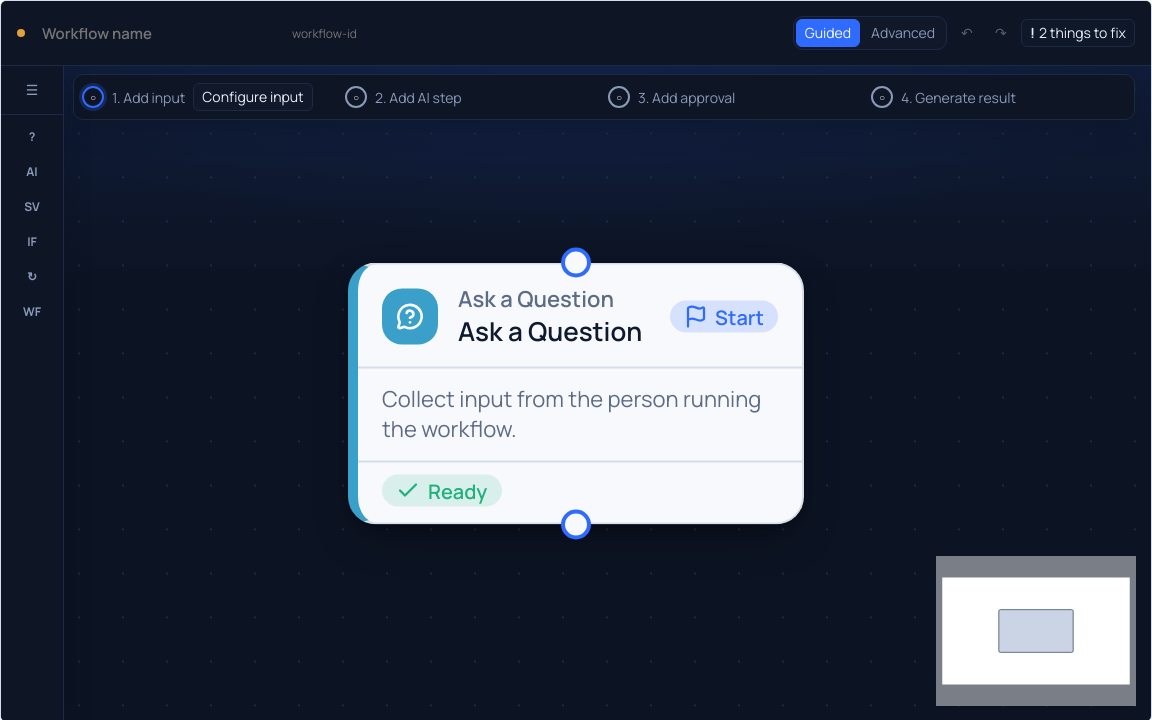
Test case: ValidationPill popover occlusion fix › moves focus into the portaled dialog on open and restores it to the toggle button on close
The image size is (1152, 720).
Click the button with class "wf-validation-pill".
click(1078, 33)  # box [1021,19,1135,47]
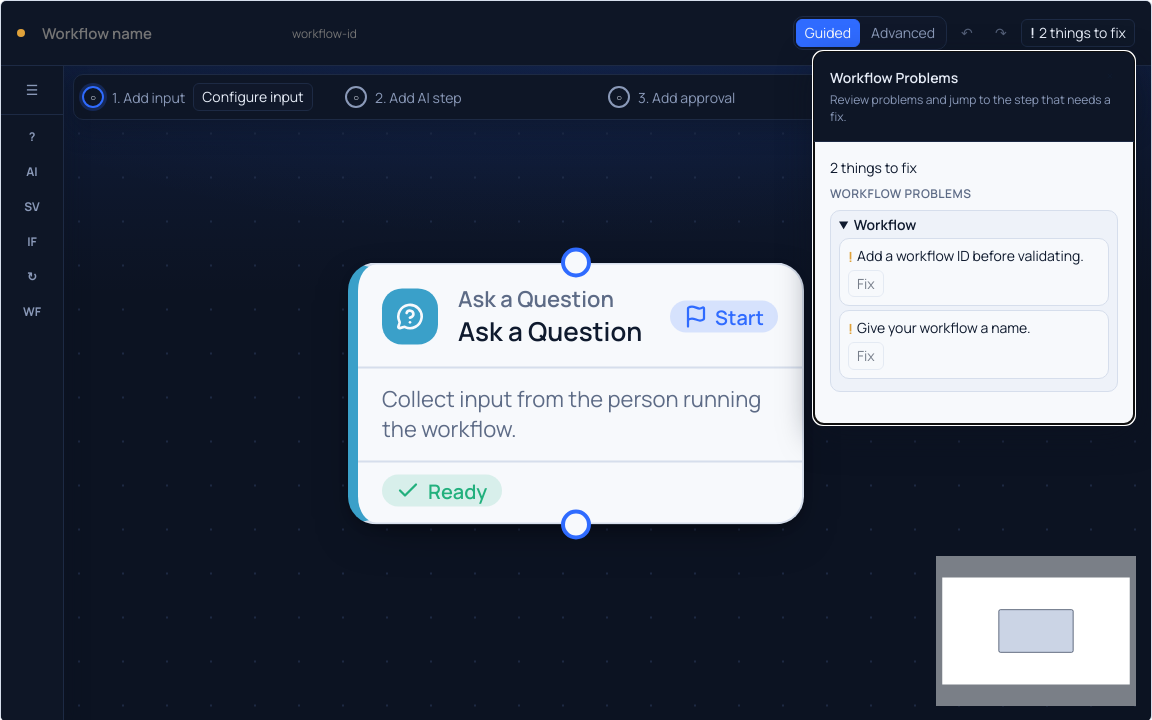
Press Escape
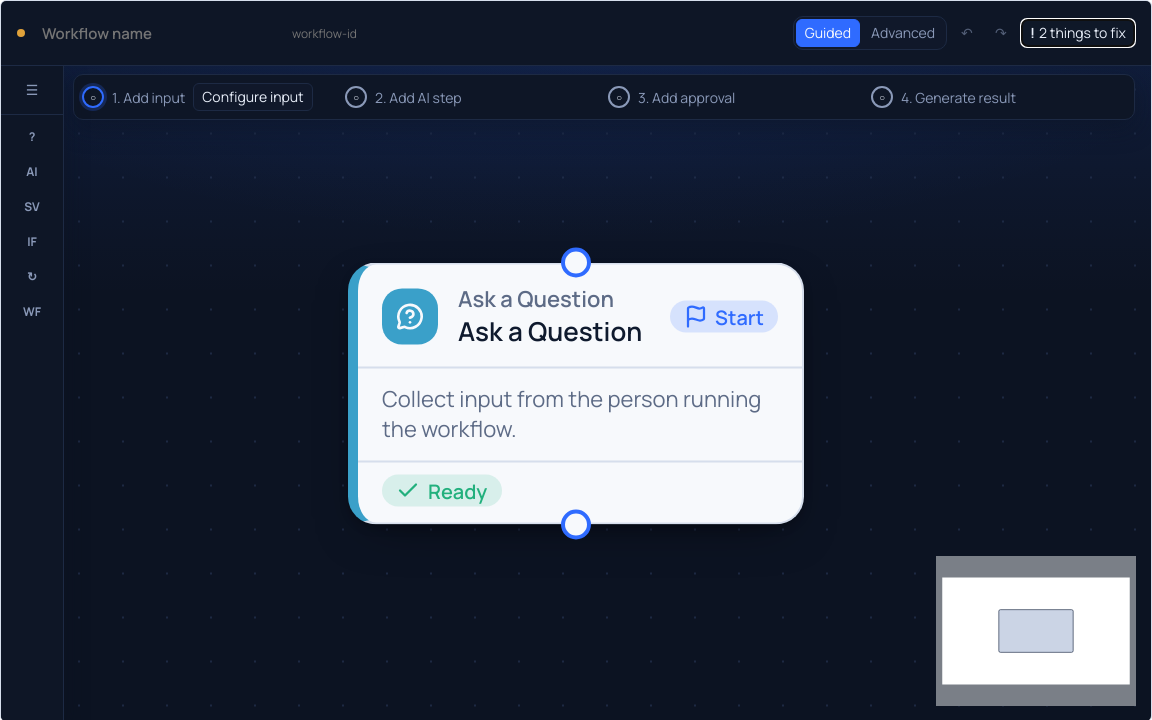
Result: the heading "Workflow Problems" is gone
